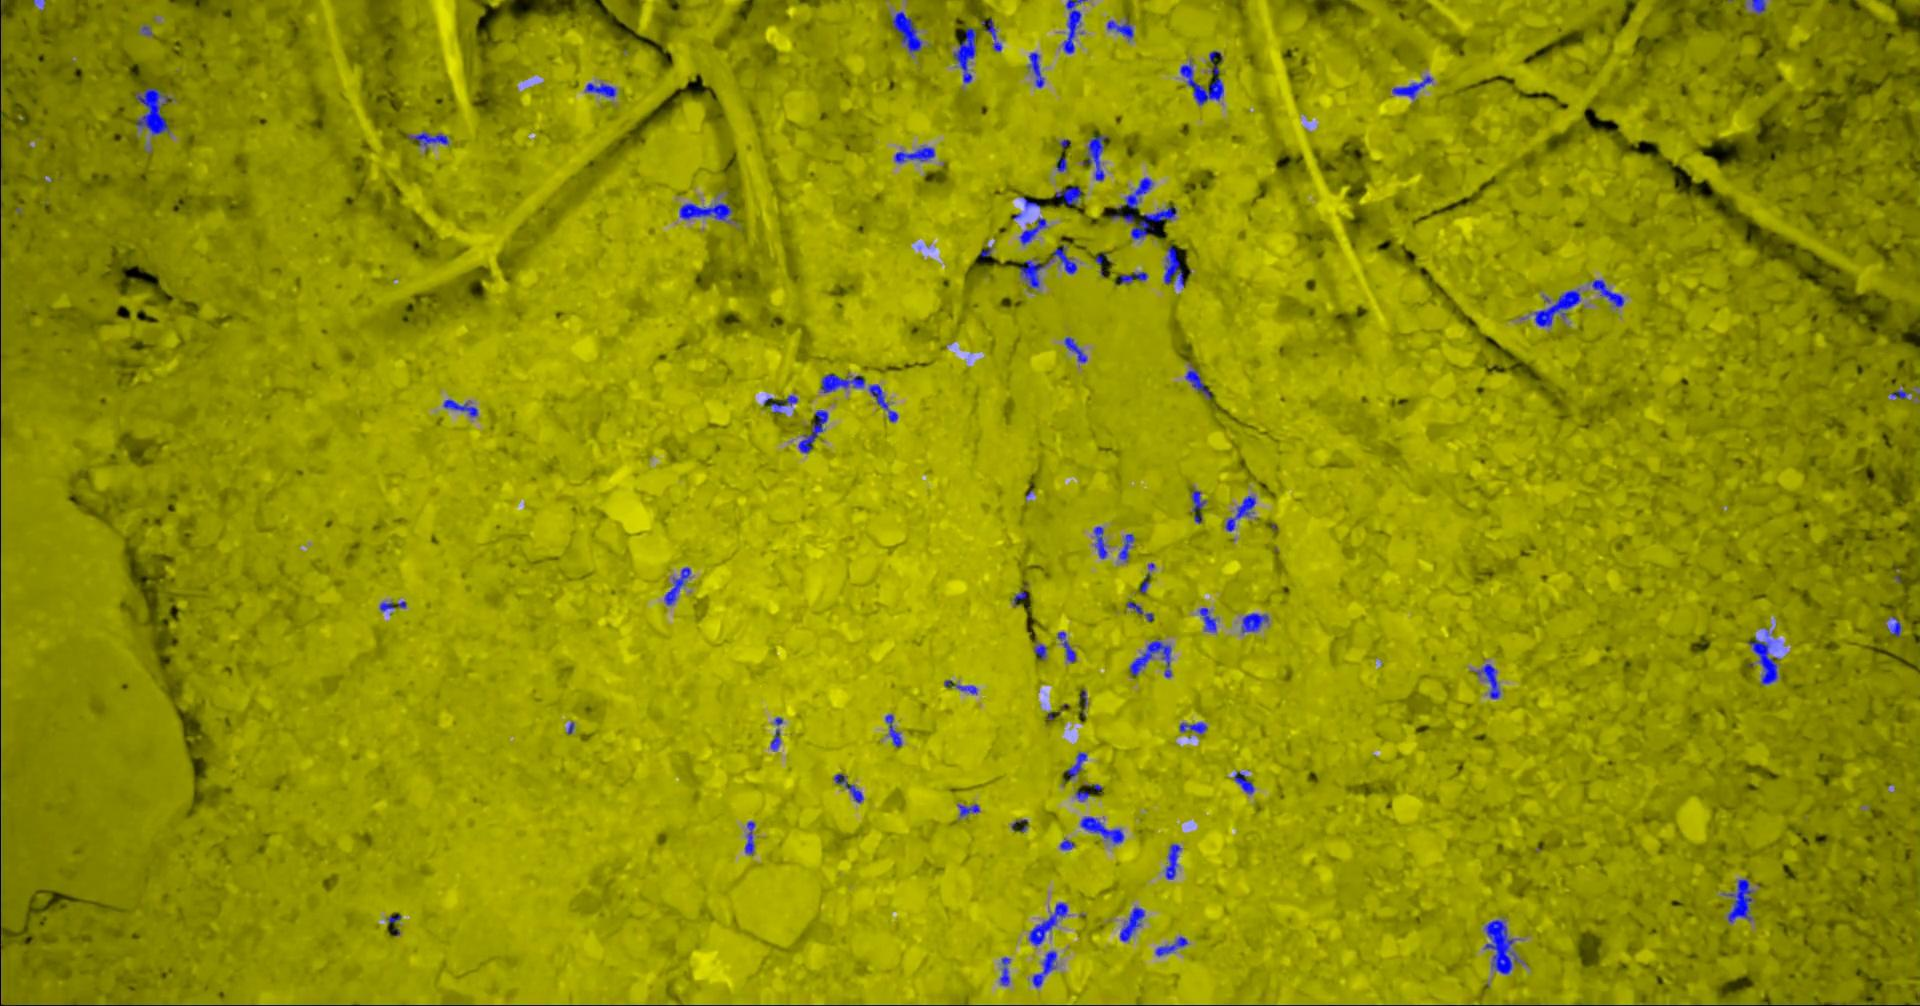ant: (1180, 50, 1223, 104), (1484, 920, 1519, 974), (1111, 177, 1152, 222), (135, 86, 171, 133), (1534, 290, 1580, 326), (1029, 902, 1067, 945), (1129, 640, 1171, 677), (1130, 205, 1176, 238), (1749, 636, 1779, 683), (952, 27, 975, 83), (797, 409, 827, 452), (1062, 0, 1084, 53), (1079, 815, 1123, 843), (891, 11, 921, 52), (1082, 135, 1106, 180), (1727, 879, 1752, 922), (1225, 495, 1255, 531), (869, 384, 897, 420), (1390, 75, 1432, 99), (679, 202, 731, 221), (664, 567, 690, 605), (1032, 950, 1057, 987), (1119, 907, 1144, 941), (833, 774, 863, 801), (1591, 279, 1623, 306), (820, 373, 863, 392), (1476, 663, 1498, 699), (1163, 246, 1183, 286), (408, 132, 448, 151), (1185, 368, 1210, 399), (1018, 217, 1045, 244), (1018, 260, 1044, 287), (1051, 245, 1076, 273), (894, 146, 935, 163), (980, 18, 1001, 50), (1156, 936, 1187, 956), (442, 399, 477, 417), (763, 395, 797, 413), (1164, 843, 1181, 879), (1057, 631, 1076, 662), (1241, 612, 1269, 633), (1064, 337, 1086, 362), (885, 714, 902, 747), (1065, 752, 1086, 779), (1107, 19, 1133, 39), (1055, 185, 1081, 205), (1029, 52, 1043, 86), (1191, 489, 1205, 523), (1139, 563, 1154, 593), (943, 680, 977, 694), (584, 83, 616, 97), (1233, 771, 1253, 793), (1199, 607, 1217, 631), (770, 716, 782, 749), (1117, 533, 1133, 560), (1093, 526, 1106, 558), (1117, 271, 1147, 283), (1095, 251, 1109, 277), (744, 821, 754, 854), (1178, 721, 1206, 733), (999, 956, 1010, 984), (957, 803, 979, 815), (1032, 643, 1048, 659), (1890, 616, 1900, 636), (1890, 390, 1909, 399), (1751, 0, 1764, 13), (1076, 790, 1090, 801), (1055, 156, 1065, 171), (1059, 838, 1074, 848)
